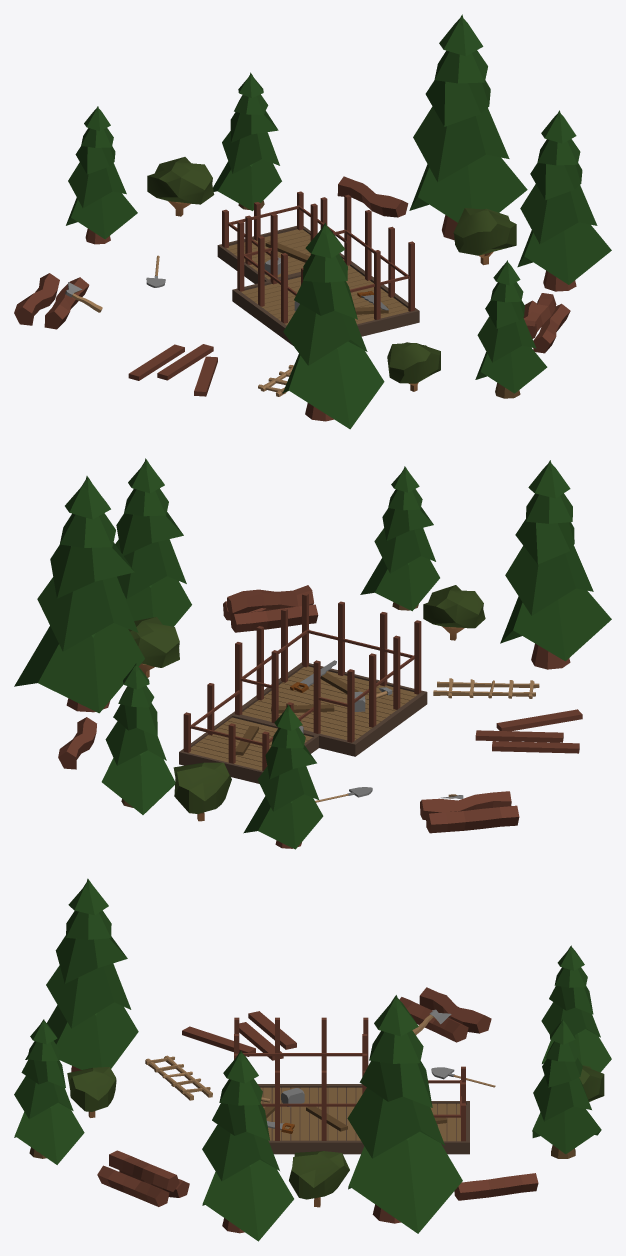
File: HouseLVL2.fbx
The picture shows the model from 3 angles, top to bottom: view 1: azimuth 30°, elevation 25°; view 2: azimuth 150°, elevation 25°; view 3: azimuth 270°, elevation 25°; orthographic projection. The views are drawn at different scales.
Visible parts, largest first — view 1: ель.001, ель.005, ель.008, Cube.017, ель.004, ель.002, ель.003, Cube.004, Cube.006, куст.003, куст.002, бревна (+5 smaller); view 2: ель.001, ель.005, Cube.017, ель.008, Cube.004, ель.004, ель.003, ель.002, Cube.006, бревна, бревна.001, Cube.010 (+7 smaller); view 3: ель.001, ель.005, ель.008, ель.002, ель.004, Cube.004, ель.003, бревна.001, Cube.006, куст.002, бревна, Cube.017 (+8 smaller).
Boxes of the visible parts, x1,y1,x2,y2 form: ель.001: [409, 14, 527, 240]; ель.005: [283, 223, 384, 429]; ель.008: [517, 110, 611, 291]; Cube.017: [222, 191, 414, 323]; ель.004: [213, 72, 281, 210]; ель.002: [475, 260, 547, 398]; ель.003: [66, 106, 137, 244]; Cube.004: [226, 229, 408, 325]; Cube.006: [217, 226, 419, 345]; куст.003: [147, 157, 214, 216]; куст.002: [453, 208, 516, 265]; бревна: [14, 273, 89, 329]; ель.001: [14, 476, 144, 713]; ель.005: [500, 460, 611, 669]; Cube.017: [183, 593, 421, 770]; ель.008: [115, 458, 191, 626]; Cube.004: [189, 666, 417, 770]; ель.004: [101, 663, 175, 814]; ель.003: [243, 704, 323, 849]; ель.002: [360, 466, 439, 611]; Cube.006: [179, 662, 427, 783]; бревна: [420, 791, 519, 833]; бревна.001: [223, 585, 318, 632]; Cube.010: [475, 709, 582, 753]; ель.001: [347, 995, 462, 1233]; ель.005: [25, 878, 138, 1072]; ель.008: [202, 1050, 293, 1241]; ель.002: [14, 1019, 84, 1164]; ель.004: [532, 1019, 601, 1158]; Cube.004: [260, 1087, 460, 1141]; ель.003: [541, 945, 611, 1072]; бревна.001: [97, 1150, 189, 1206]; Cube.006: [258, 1084, 469, 1154]; куст.002: [289, 1151, 349, 1207]; бревна: [399, 987, 491, 1042]; Cube.017: [234, 1017, 465, 1141].
Bounding box in the file's own units: 840 × 354 × 863.
